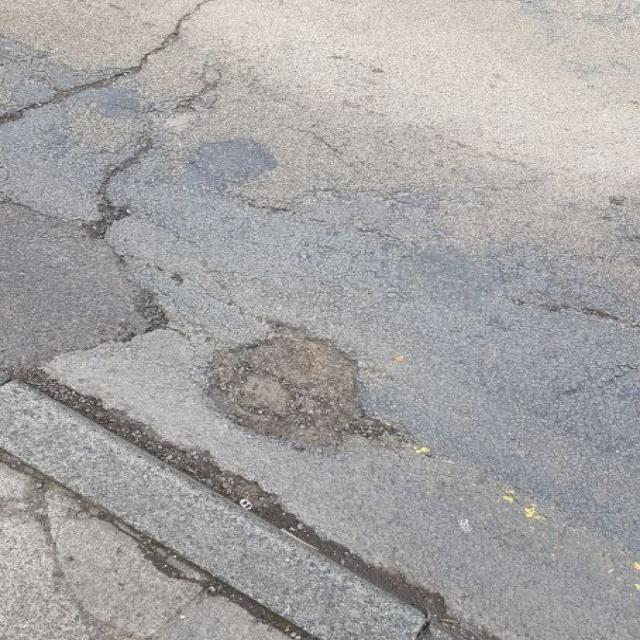pothole: (194, 311, 410, 449)
